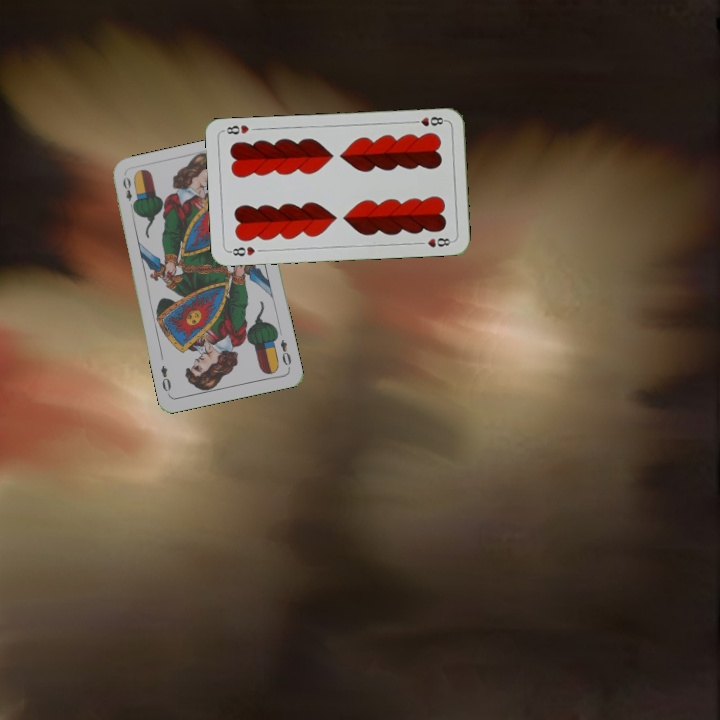EO: (119, 173, 138, 212), (276, 336, 294, 368)
H8: (408, 113, 448, 129), (225, 242, 258, 258)
